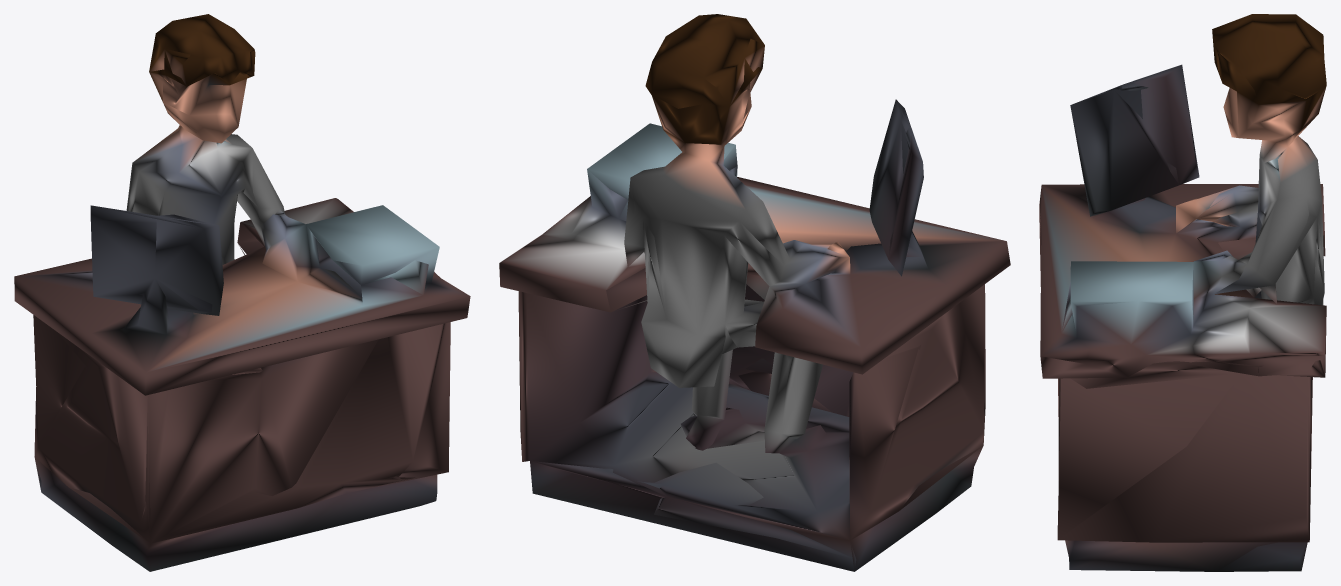
The model's file is gen3d-cashier-lod1.glb.
The picture shows the model from 3 angles, left to right: view 1: azimuth 30°, elevation 25°; view 2: azimuth 150°, elevation 25°; view 3: azimuth 270°, elevation 25°; orthographic projection. The views are drawn at different scales.
Parts seen in each view (by area): view 1: part_0; view 2: part_0; view 3: part_0.
Part boxes in pixels (x1=…): part_0: x1=14, y1=14, x2=470, y2=571; part_0: x1=499, y1=14, x2=1010, y2=571; part_0: x1=1039, y1=14, x2=1326, y2=571.
Size of the model in its own units: 0.7619 by 0.9989 by 0.5433.
